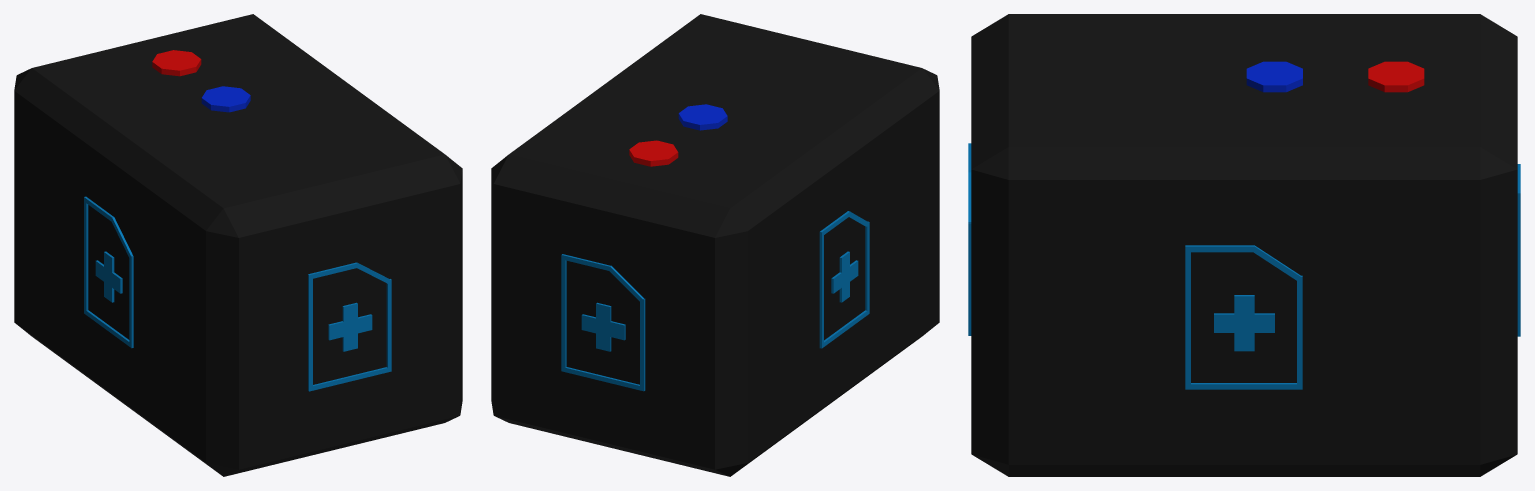
Rendered from AmmoCrate.obj.
The picture shows the model from 3 angles, left to right: view 1: azimuth 30°, elevation 25°; view 2: azimuth 150°, elevation 25°; view 3: azimuth 270°, elevation 25°; orthographic projection. The views are drawn at different scales.
Parts seen in each view (by area): view 1: Cube, AmmoSymbol003, AmmoSymbol001, Button1, Button2; view 2: Cube, AmmoSymbol002, AmmoSymbol001, Button1, Button2; view 3: Cube, AmmoSymbol, Button1, Button2, AmmoSymbol003, AmmoSymbol002.
Part boxes in pixels (box(x1,y1,x2,y2)): Cube: box(14, 14, 462, 476); AmmoSymbol003: box(308, 262, 391, 391); AmmoSymbol001: box(84, 196, 133, 348); Button1: box(152, 50, 201, 76); Button2: box(201, 86, 250, 112); Cube: box(491, 14, 939, 476); AmmoSymbol002: box(561, 254, 645, 391); AmmoSymbol001: box(819, 211, 869, 348); Button1: box(629, 140, 678, 166); Button2: box(678, 104, 727, 130); Cube: box(971, 14, 1517, 476); AmmoSymbol: box(1185, 245, 1302, 389); Button1: box(1368, 61, 1424, 92); Button2: box(1246, 61, 1302, 92); AmmoSymbol003: box(968, 143, 971, 335); AmmoSymbol002: box(1517, 164, 1520, 336).
Size of the model in its own units: 1.22 by 1.23 by 1.82.
